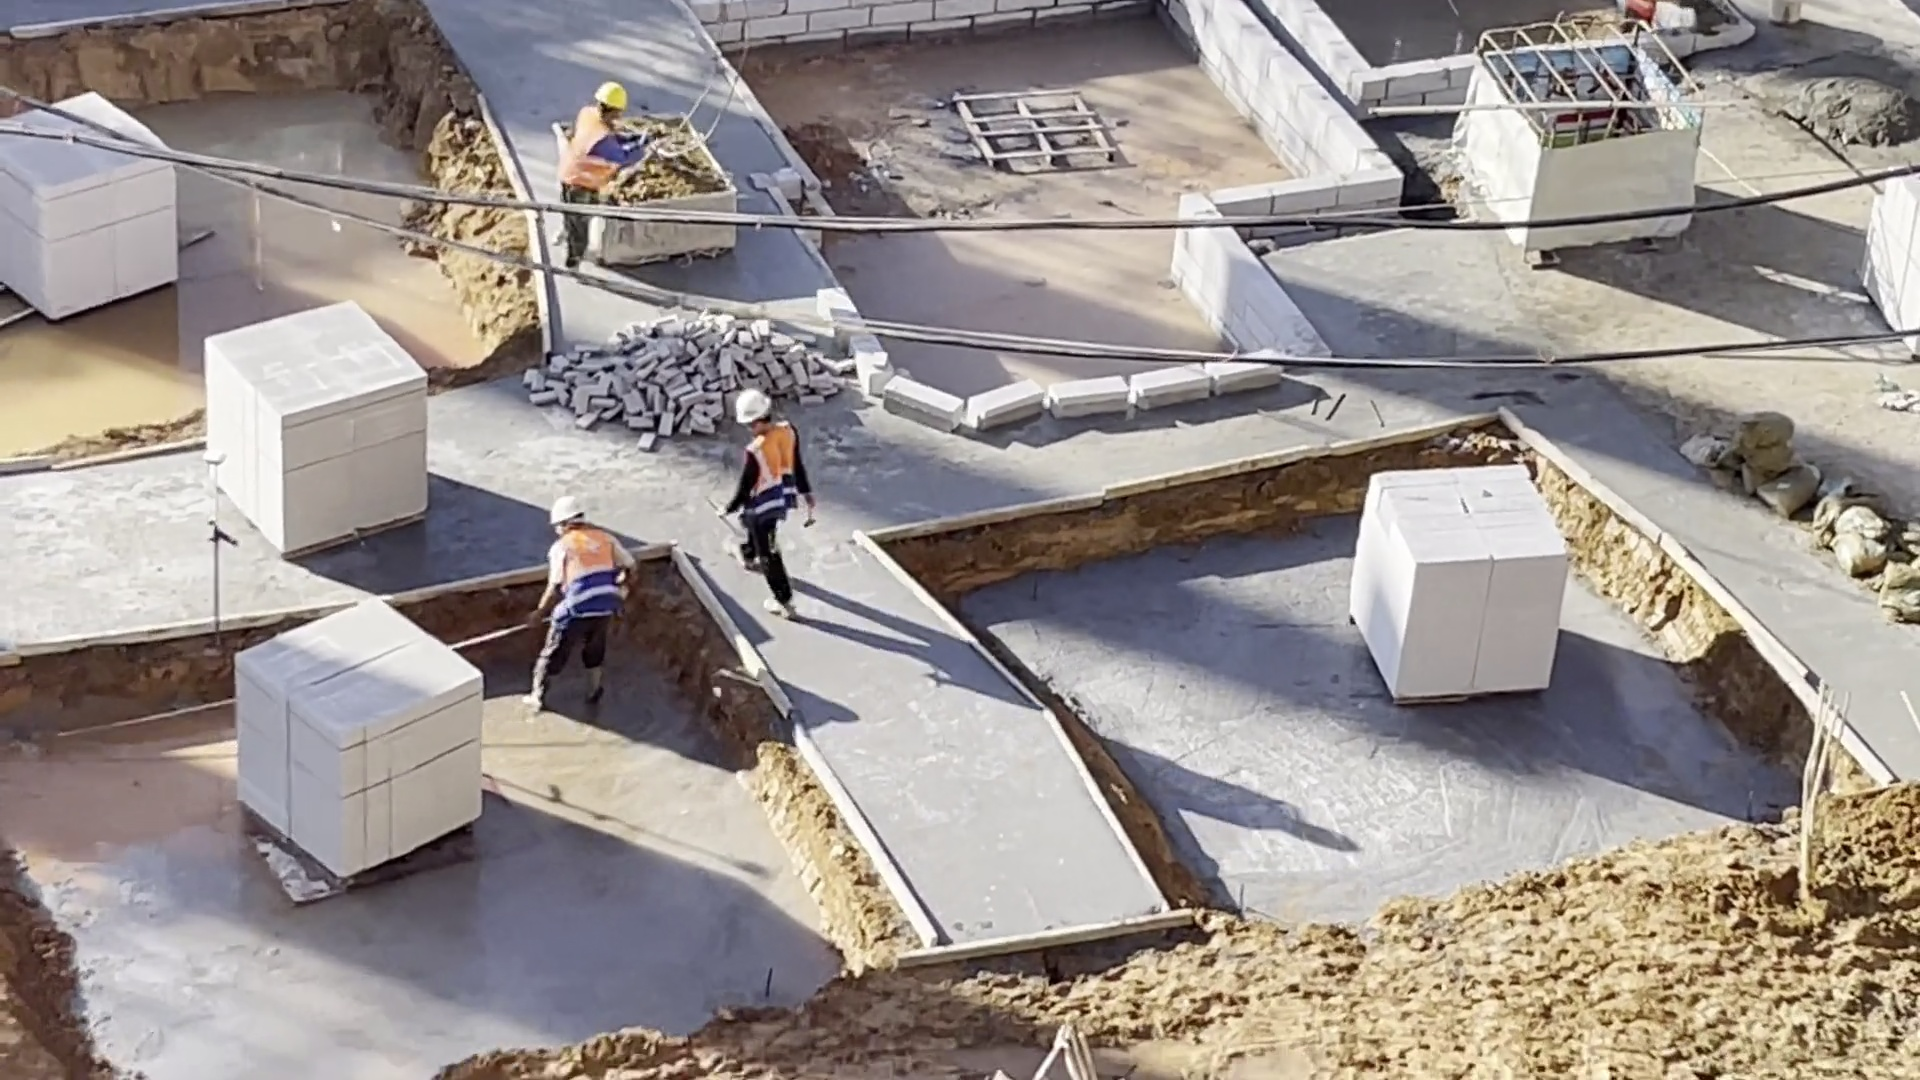helmet: (731, 392, 777, 424), (594, 80, 630, 115), (550, 493, 584, 528)
person: (505, 492, 649, 716), (723, 387, 819, 621), (558, 79, 660, 209)
vest: (740, 423, 802, 527), (553, 528, 627, 615), (558, 104, 616, 192)
